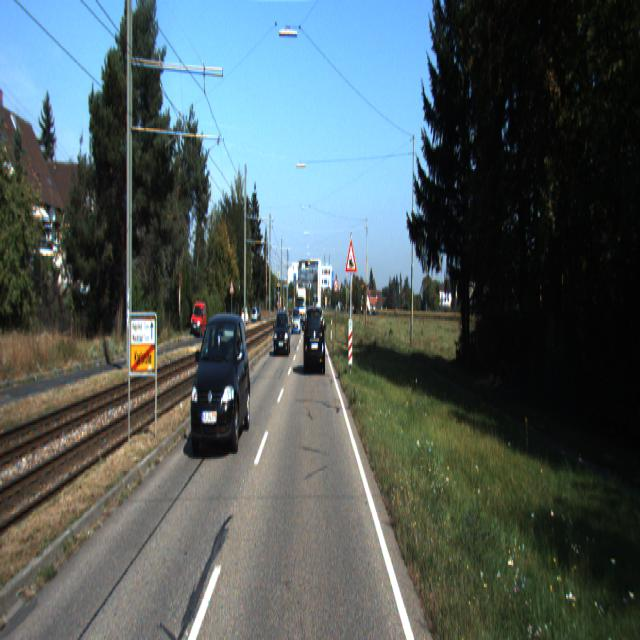Car: (190, 308, 252, 455), (304, 305, 326, 376), (273, 310, 291, 358), (191, 302, 207, 340), (292, 308, 301, 335)
